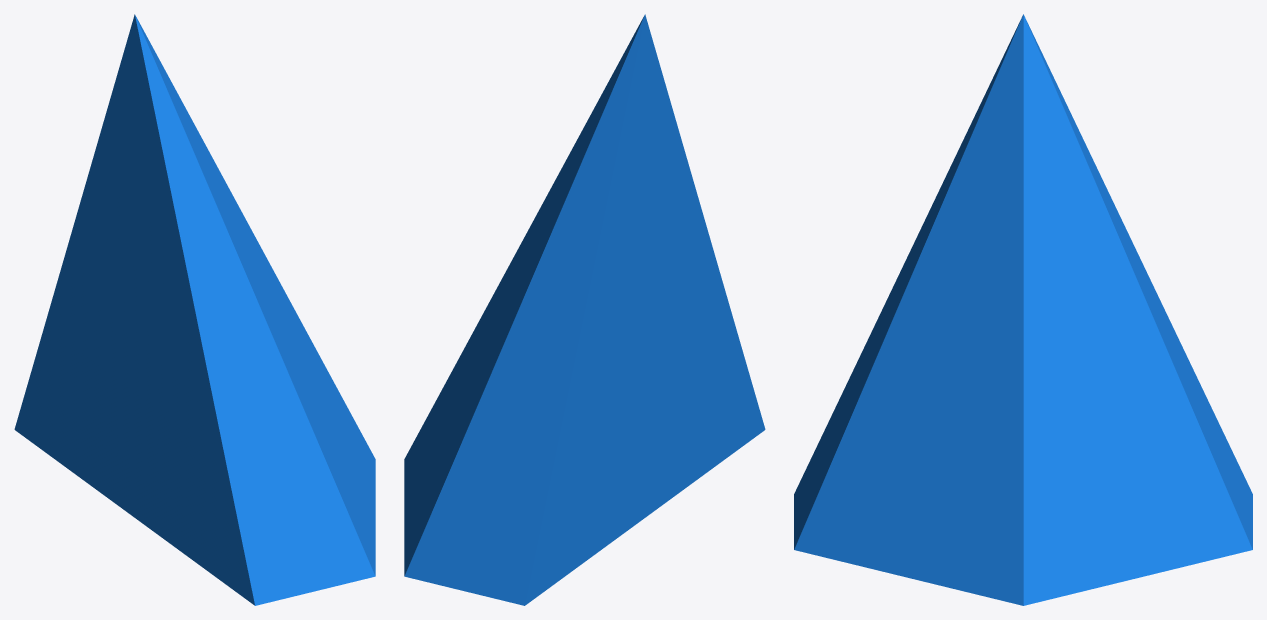
Rendered from Proto_Block_Top_Point_Hexagon_Half_01.fbx.
The picture shows the model from 3 angles, left to right: view 1: azimuth 30°, elevation 25°; view 2: azimuth 150°, elevation 25°; view 3: azimuth 270°, elevation 25°; orthographic projection. The views are drawn at different scales.
Parts seen in each view (by area): view 1: Proto_Block_Top_Point_Hexagon_Half_01; view 2: Proto_Block_Top_Point_Hexagon_Half_01; view 3: Proto_Block_Top_Point_Hexagon_Half_01.
Part boxes in pixels (<box>): Proto_Block_Top_Point_Hexagon_Half_01: <box>14,14,375,605</box>; Proto_Block_Top_Point_Hexagon_Half_01: <box>404,14,765,605</box>; Proto_Block_Top_Point_Hexagon_Half_01: <box>794,14,1252,605</box>.
Size of the model in its own units: 0.5 by 1 by 0.866.
